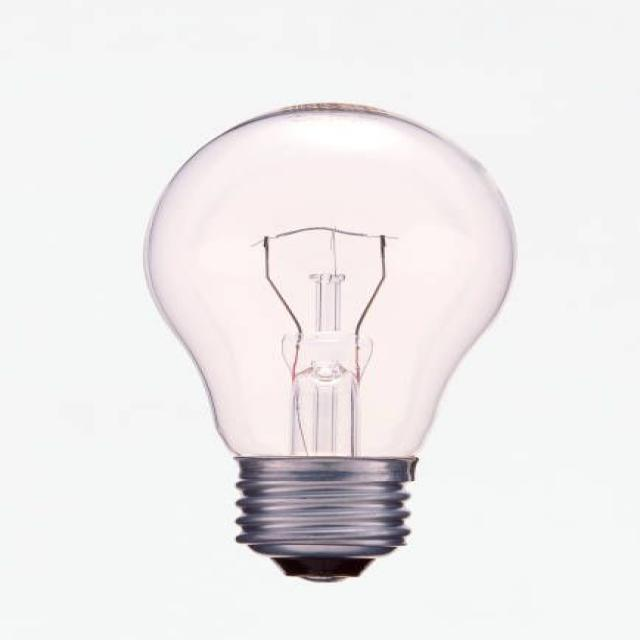electronic: (140, 100, 518, 582)
